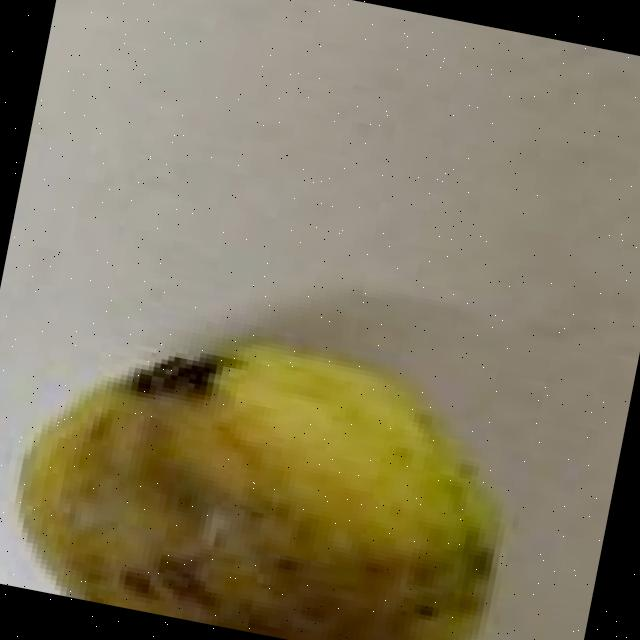Bad_Guava 0 day: (19, 341, 502, 640)
